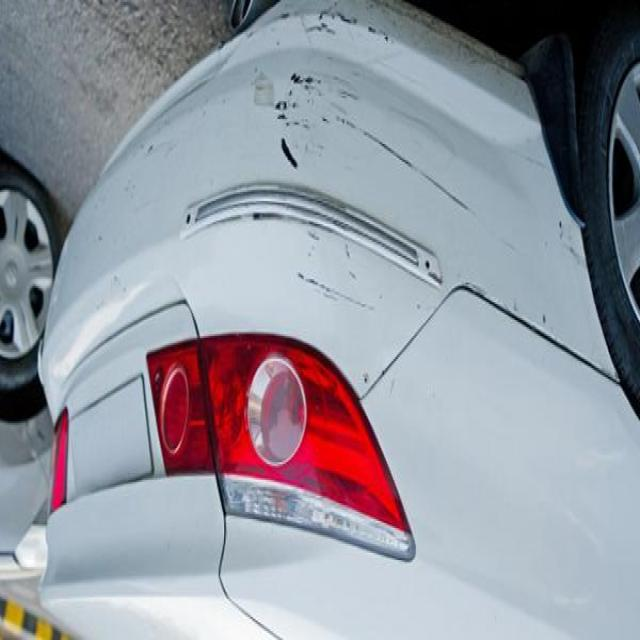scratch: (340, 109, 475, 216), (293, 259, 383, 321)
